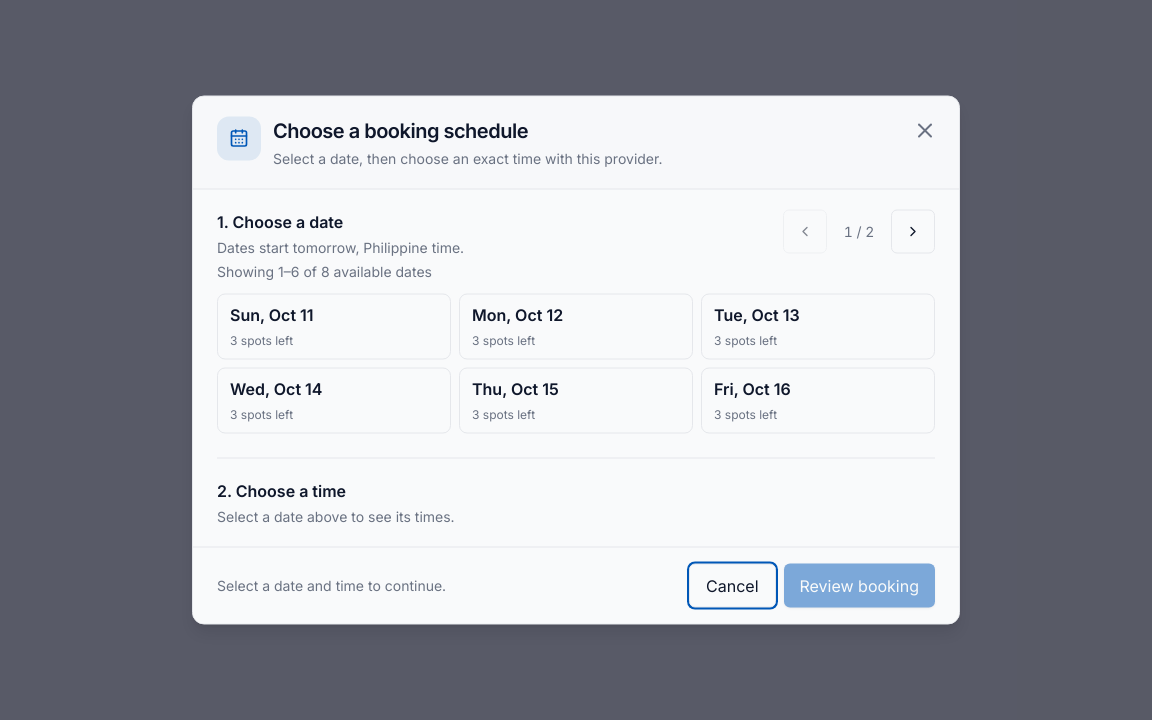
it: SlotSelectionModal › shows a short page of dates and lets people browse later availability
Expected: the text "Showing 1–6 of 8 available dates" is shown, [217,262,464,282]
Expected: the button "Sat, Oct 17" is not shown
Click the button named "Next dates" at (913, 232), box [891,210,935,254]
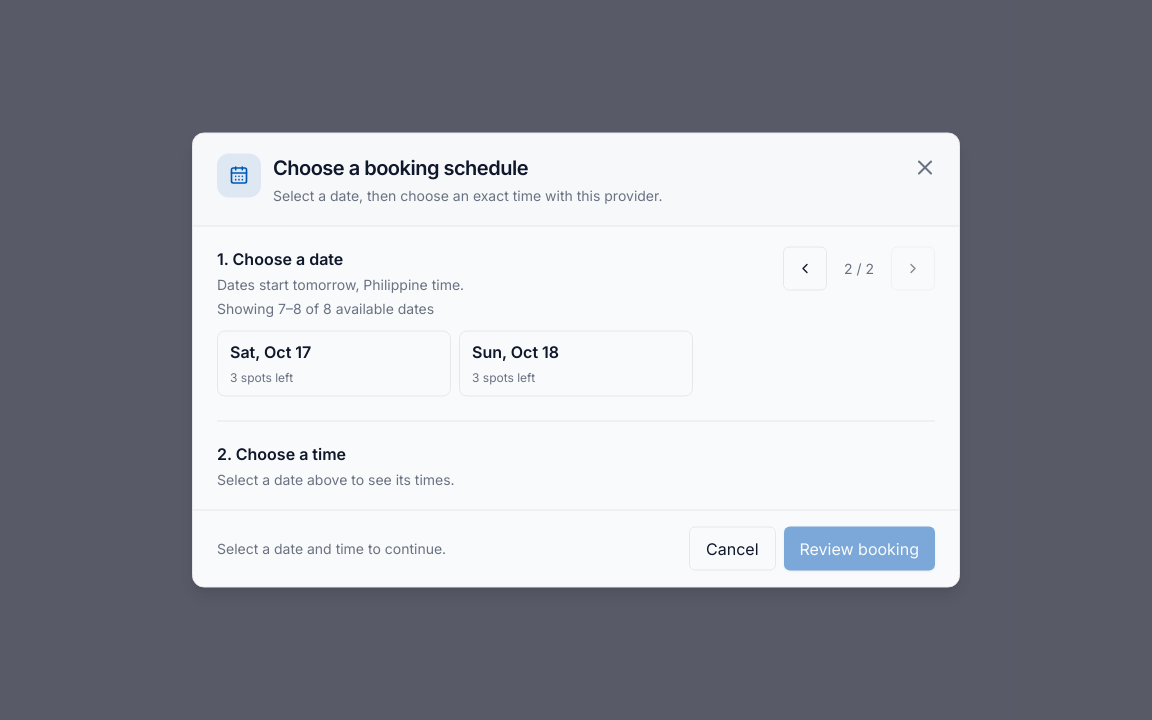
Expected: the button "Review booking" is disabled, [784,526,935,570]
Expected: the text "Showing 7–8 of 8 available dates" is shown, [217,298,464,318]
Expected: the button "Sat, Oct 17 3 spots left" is shown, [217,330,451,396]
